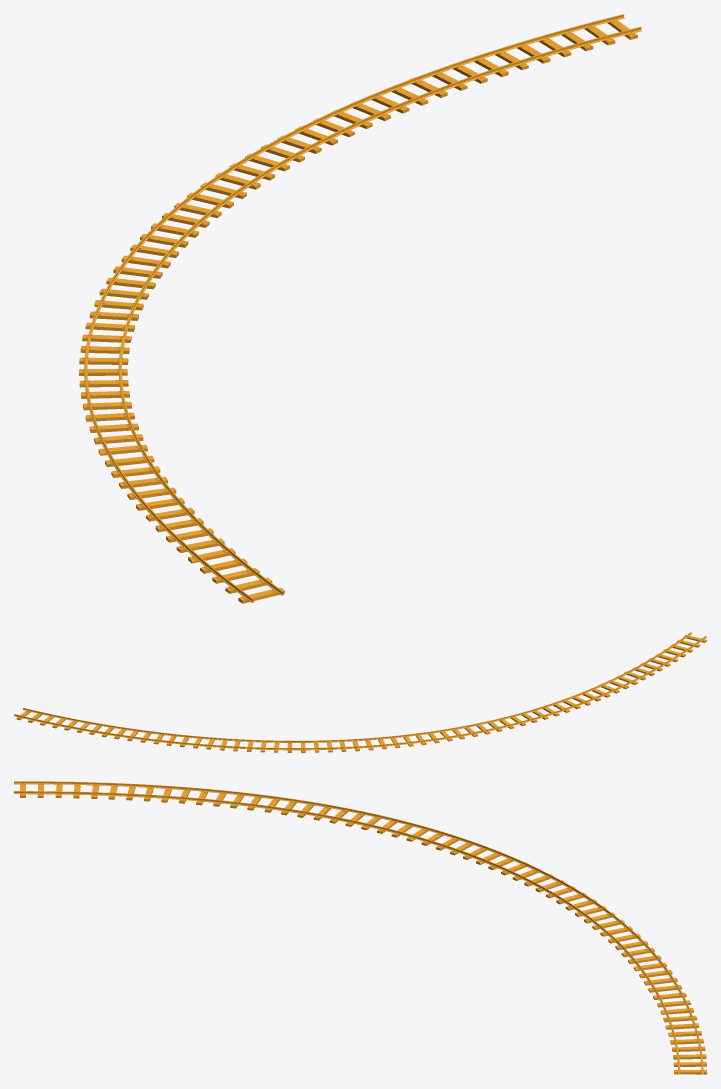
Rendered from SM_Train_Rail_Turn_Old.fbx.
The picture shows the model from 3 angles, top to bottom: view 1: azimuth 30°, elevation 25°; view 2: azimuth 150°, elevation 25°; view 3: azimuth 270°, elevation 25°; orthographic projection. The views are drawn at different scales.
Visible parts, largest first — view 1: SM_Train_Rail_Turn_Old; view 2: SM_Train_Rail_Turn_Old; view 3: SM_Train_Rail_Turn_Old.
Part boxes in pixels (box(x1,y1,x2,y2)): SM_Train_Rail_Turn_Old: box(79, 14, 641, 603); SM_Train_Rail_Turn_Old: box(14, 632, 706, 752); SM_Train_Rail_Turn_Old: box(14, 781, 706, 1074).
Size of the model in its own units: 46.09 by 0.3232 by 46.07.
